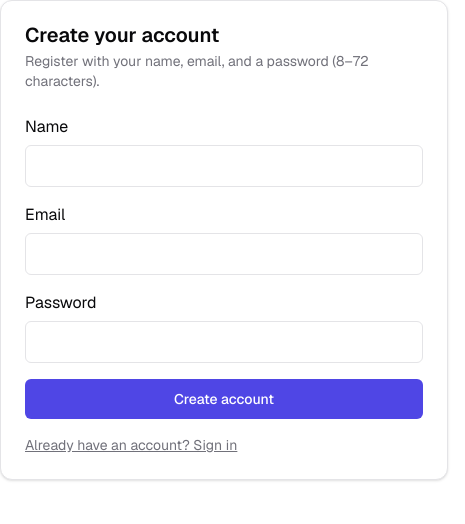
it: renders a validation_error inline next to the offending field
Type "Ada Lovelace" into the field labelled "Name". click: x=224, y=166
box: [25, 145, 423, 187]
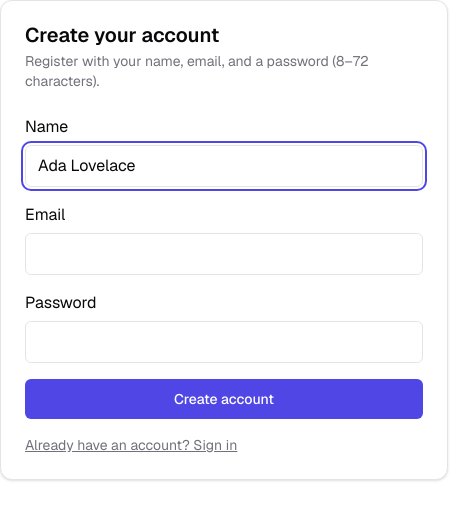
Type "inline@test.local" into the field labelled "Email". click: x=224, y=254
box: [25, 233, 423, 275]
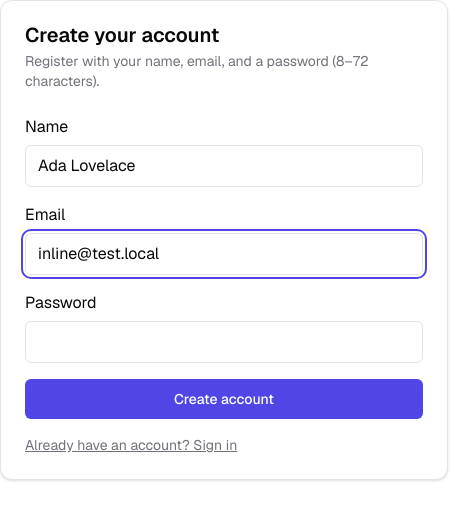
Type "short" into the password field labelled "Password". click: x=224, y=342
box: [25, 321, 423, 363]
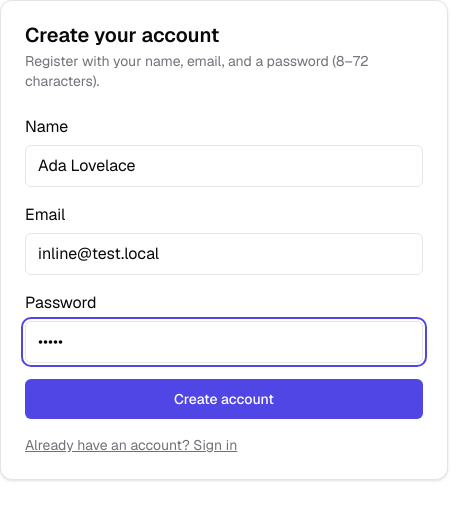
Click the button "Create account". click: x=224, y=399
box: [25, 379, 423, 419]
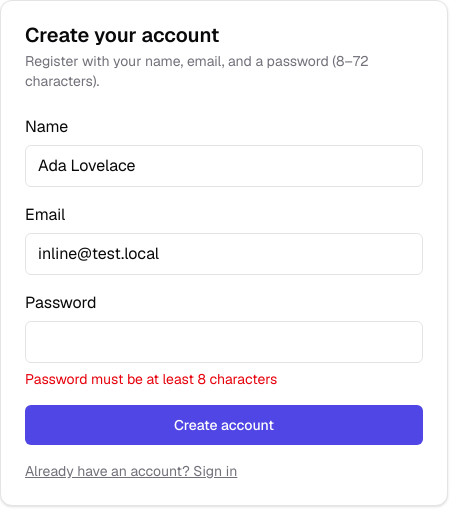
Now the text "Password must be at least 8 characters" is shown, box [25, 370, 277, 388]
